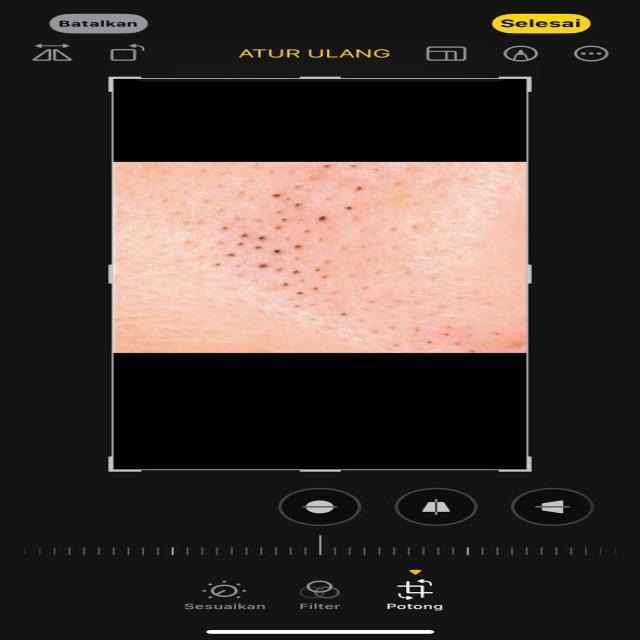blackhead: (175, 160, 401, 336)
